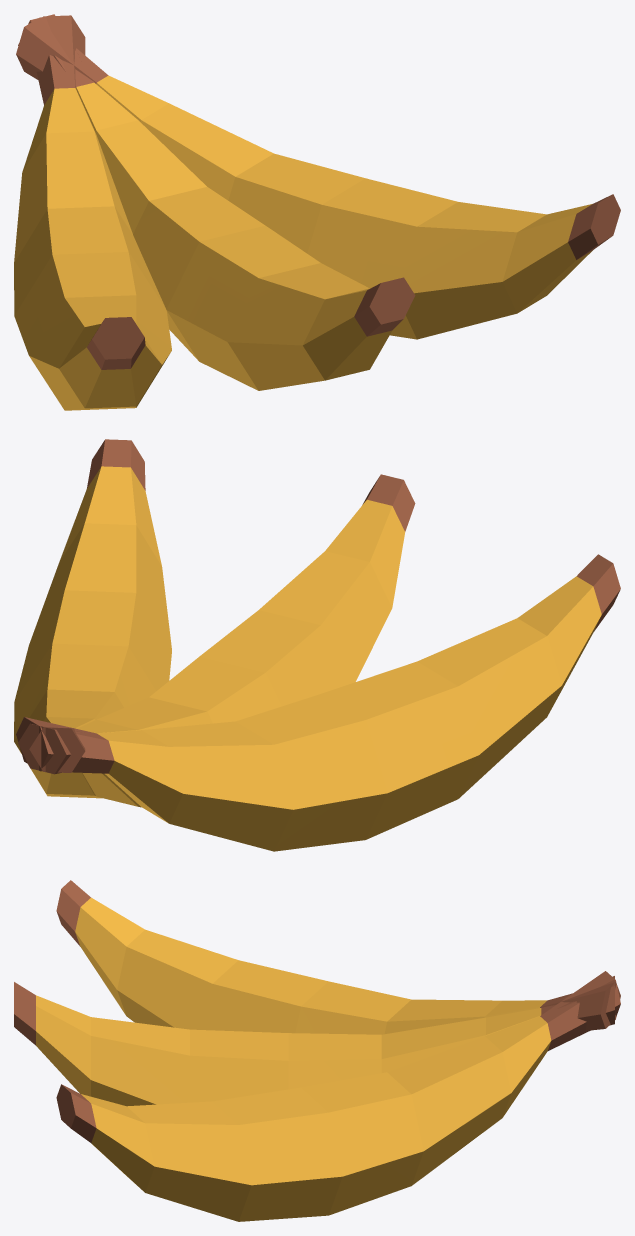
File: banana_stack3.obj
3 renders of one model, top to bottom at view 1: azimuth 30°, elevation 25°; view 2: azimuth 150°, elevation 25°; view 3: azimuth 270°, elevation 25°, orthographic. The views are drawn at different scales.
Parts seen in each view (by area): view 1: banana.001, banana, banana.002; view 2: banana.002, banana, banana.001; view 3: banana.001, banana, banana.002.
Part boxes in pixels (box(x1,y1,x2,y2)): banana.001: box(16, 17, 620, 339); banana: box(18, 14, 415, 390); banana.002: box(14, 15, 171, 410); banana.002: box(16, 554, 620, 851); banana: box(18, 474, 415, 807); banana.001: box(14, 439, 171, 798); banana.001: box(56, 971, 620, 1221); banana: box(14, 976, 614, 1106); banana.002: box(56, 880, 620, 1034).
Size of the model in its own units: 0.5494 by 0.1958 by 0.6361.
